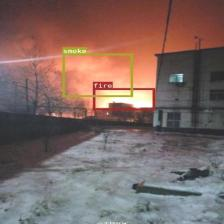fire: (92, 88, 155, 110)
smoke: (63, 53, 132, 97)
